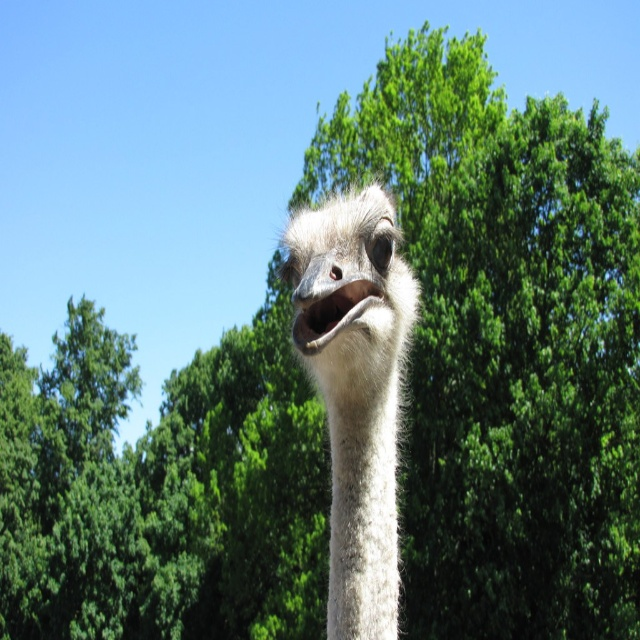Ostrich: (279, 173, 422, 639)
